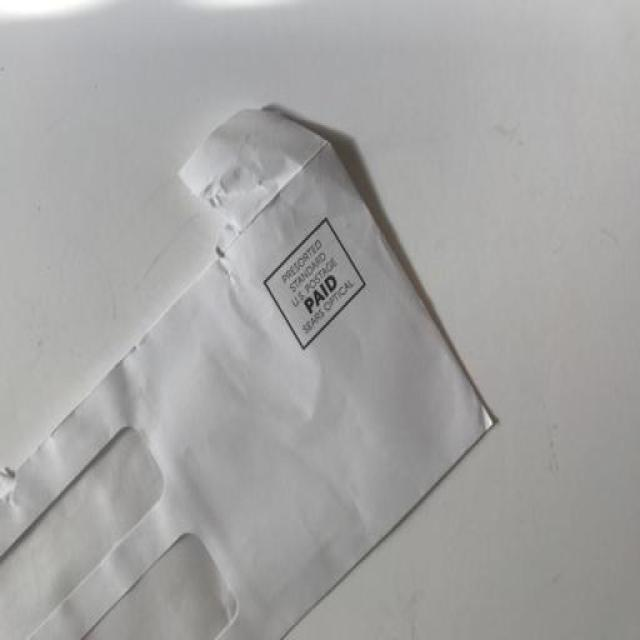Paper: (0, 99, 497, 640)
